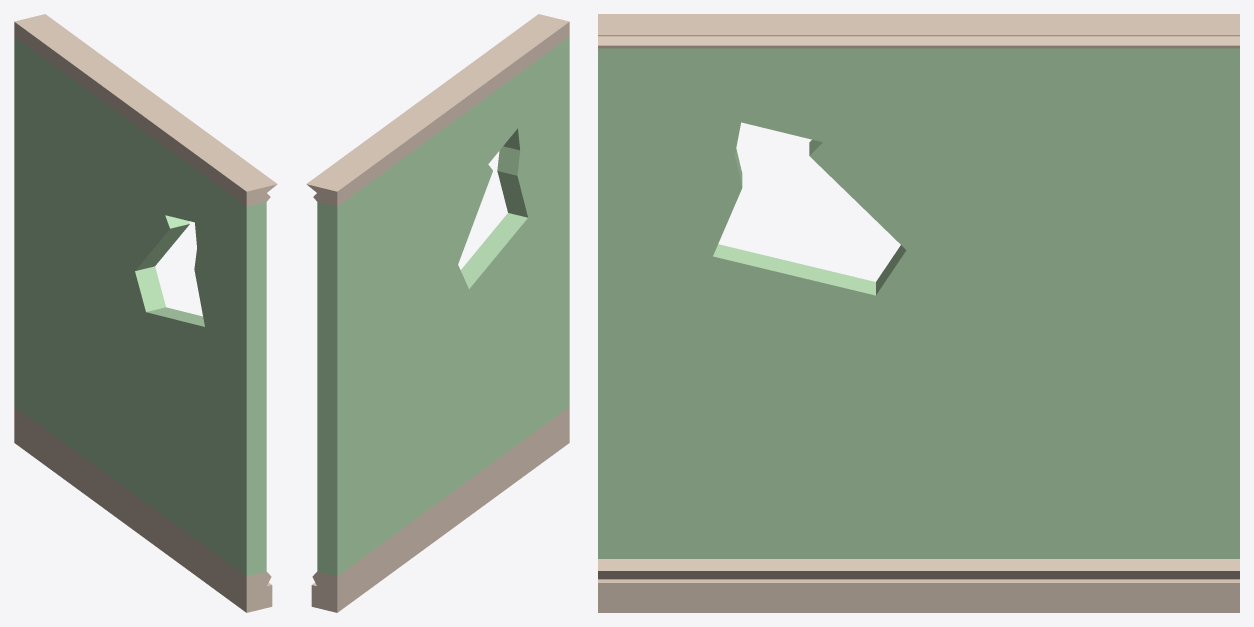
The model's file is Wall_SmallHole3.fbx.
3 views of the same model, side by side, from view 1: azimuth 30°, elevation 25°; view 2: azimuth 150°, elevation 25°; view 3: azimuth 270°, elevation 25° (orthographic). The views are drawn at different scales.
Parts seen in each view (by area): view 1: Cube; view 2: Cube; view 3: Cube.
Part boxes in pixels (x1,y1,x2,y2): Cube: (14, 14, 277, 612); Cube: (306, 14, 569, 612); Cube: (598, 14, 1239, 612).
Bounding box in the file's own units: 61.8 × 800 × 800.
